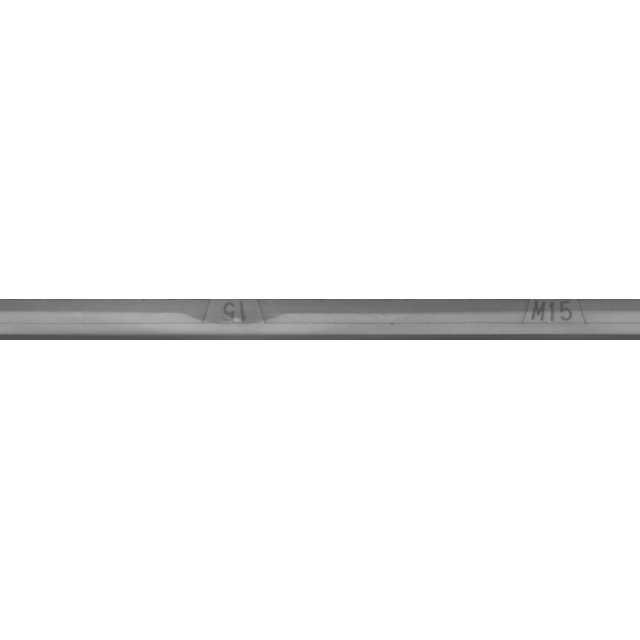mohao: (454, 270, 640, 370)
xuehao: (135, 270, 335, 370)
